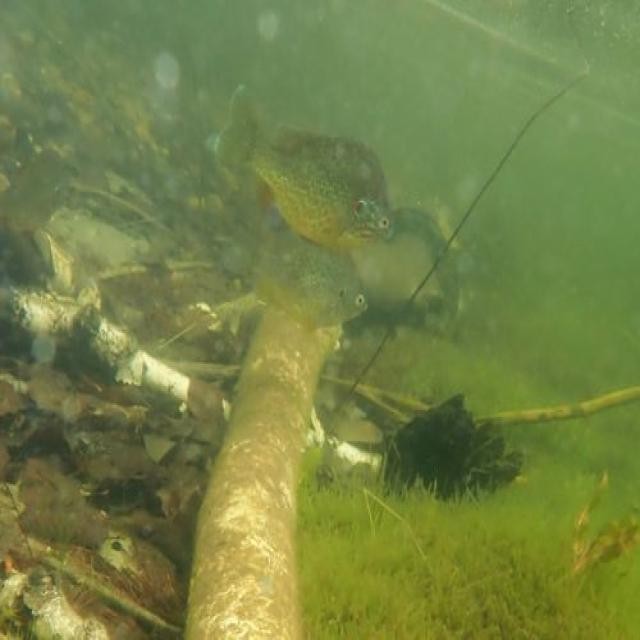Gunes Levregi: (210, 72, 420, 256)
